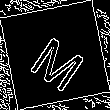M_NE: (22, 22, 88, 88)
